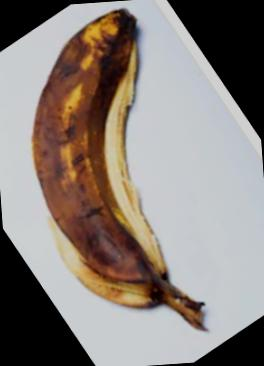Banana Overripe: (11, 0, 239, 363)
